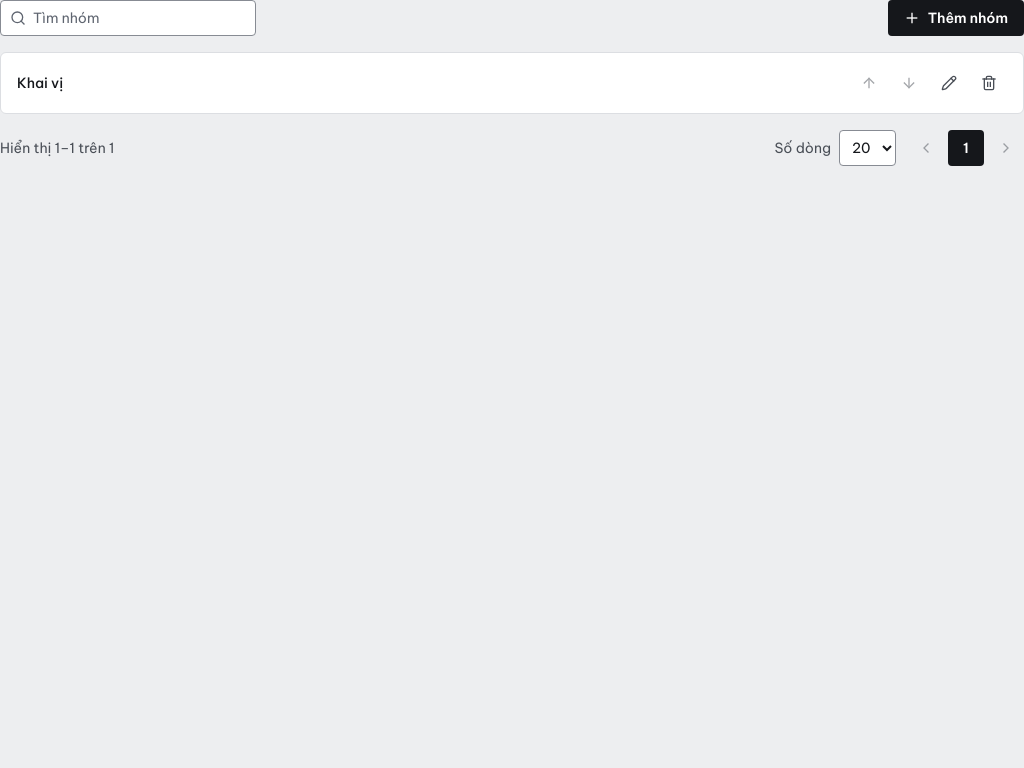
Test: GroupList › surfaces the API's message inline when a delete is rejected
Click the button named "Xóa nhóm".
click(989, 83)  # box [971,65,1007,101]
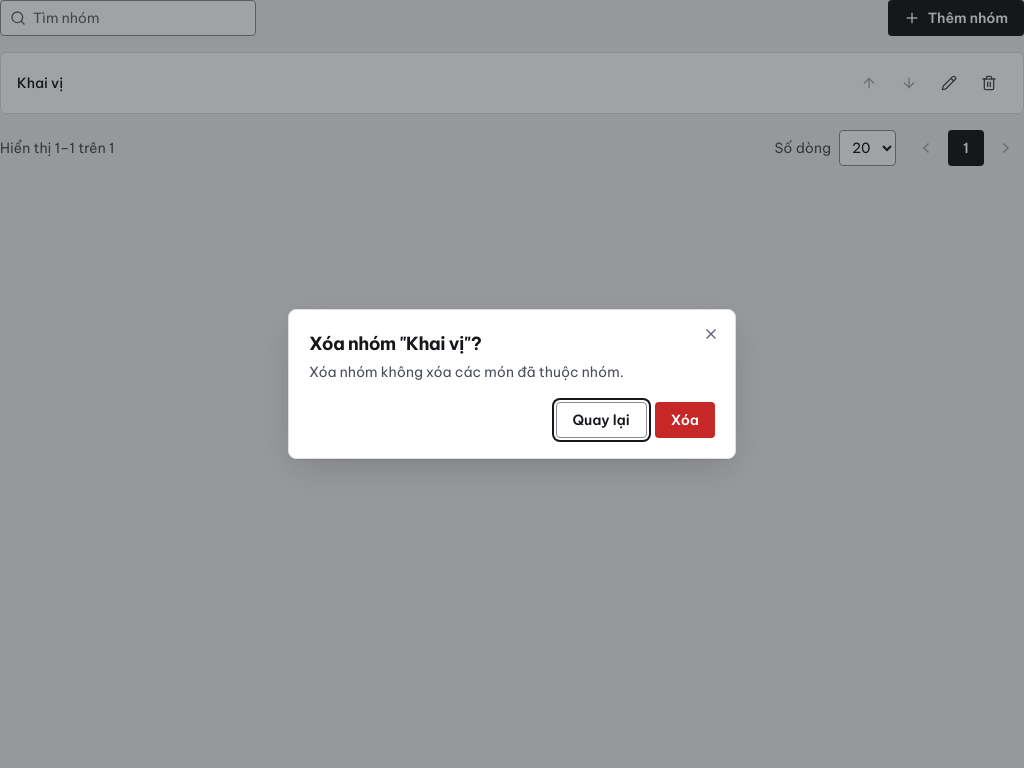
Click the button "Xóa".
click(685, 420)  # box [655,402,715,438]
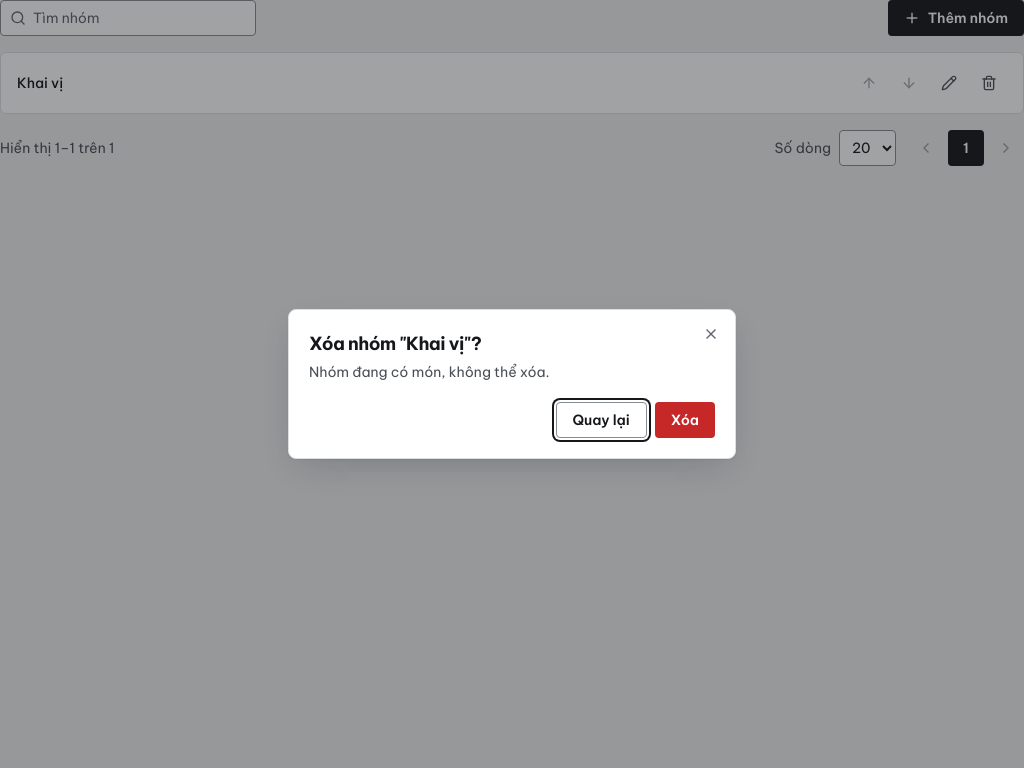
Check: the text "Nhóm đang có món, không thể xóa." is shown, box [309,363,550,381]
